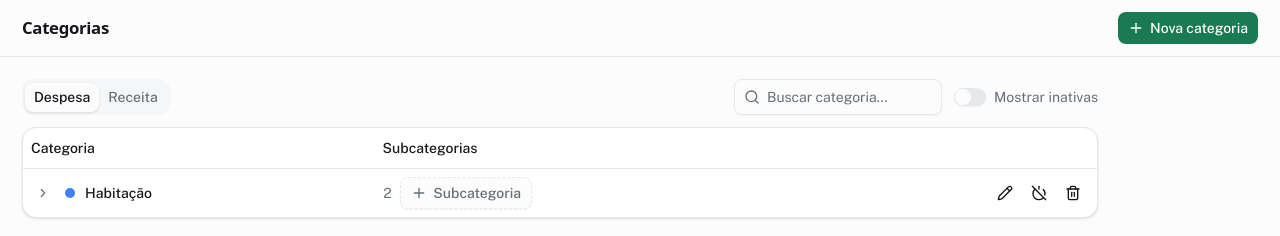
CategoriesPage › separates income and expense tabs from a single request
Expected: the text "Habitação" is shown, x1=85 y1=182 x2=152 y2=202
Expected: the text "Salário" is not shown
Click the tab "Receita" at (133, 97), box x1=99 y1=82 x2=167 y2=112
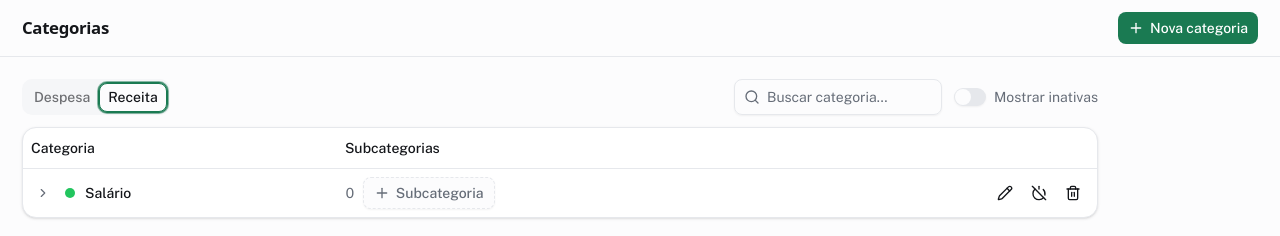
Expected: the text "Salário" is shown, x1=85 y1=182 x2=131 y2=202
Expected: the text "Habitação" is gone
